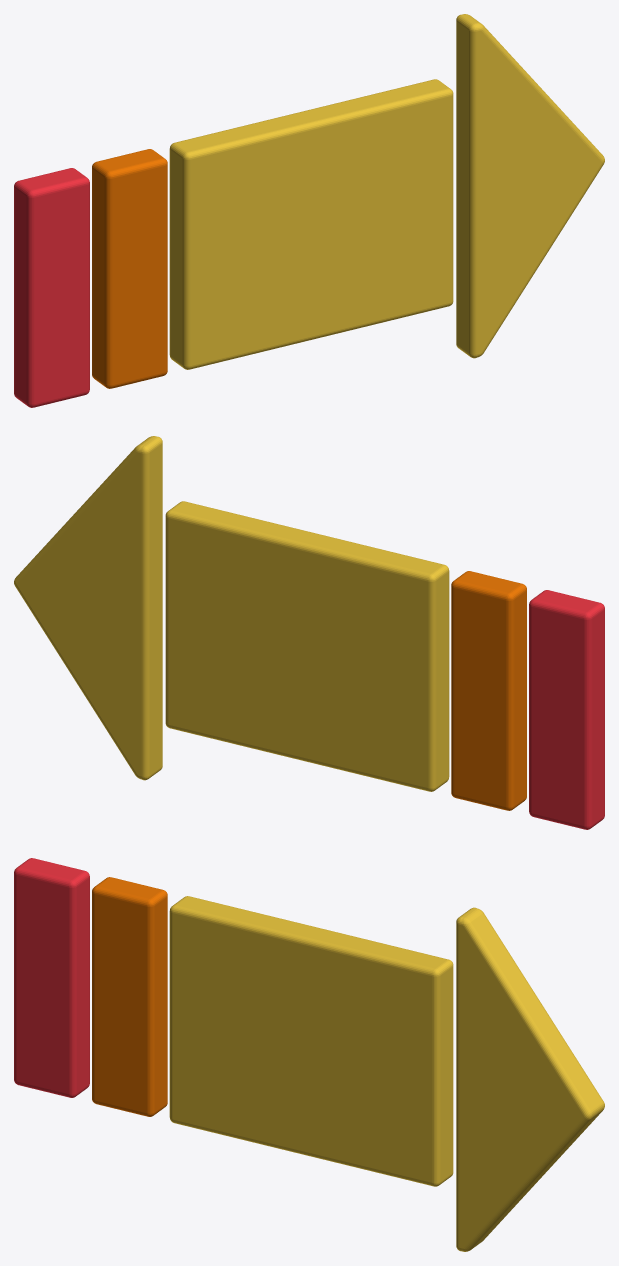
The model's file is Warning arrow.fbx.
The picture shows the model from 3 angles, top to bottom: view 1: azimuth 30°, elevation 25°; view 2: azimuth 150°, elevation 25°; view 3: azimuth 330°, elevation 25°; orthographic projection.
Visible parts, largest first — view 1: Cube.003; view 2: Cube.003; view 3: Cube.003.
Part boxes in pixels (left/top/right/bottom): Cube.003: left=14, top=14, right=604, bottom=407; Cube.003: left=14, top=436, right=604, bottom=829; Cube.003: left=14, top=858, right=604, bottom=1251.
Size of the model in its own units: 3 by 30.72 by 55.58.
